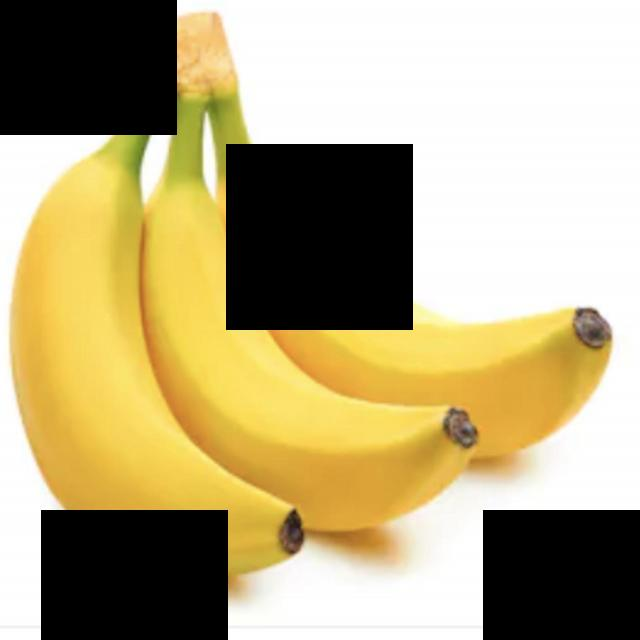banana: (113, 54, 498, 570), (19, 58, 328, 638), (224, 130, 620, 474)
